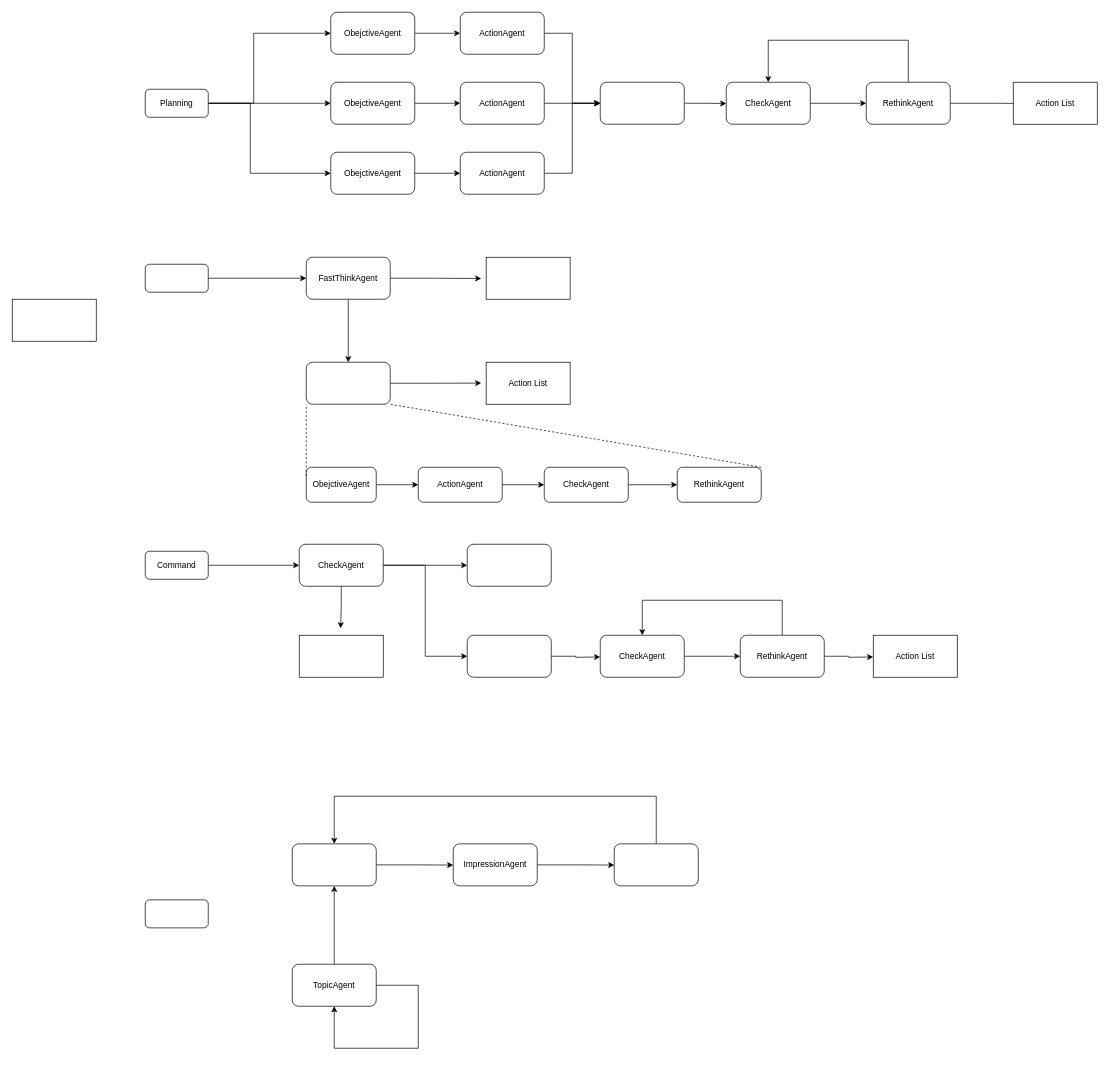
Some shapes in this 1110 by 1066 pixel diagram are drawn without their labels. Here are the shapes that lost their labels. From the top down, the box of each, then its label:
(600, 82, 684, 124): MergerAgent
(145, 264, 208, 292): Replan
(485, 257, 570, 299): Instant Action
(12, 299, 96, 341): Event
(306, 362, 390, 404): ReplanAgent
(467, 544, 551, 586): WriterAgent
(299, 635, 383, 677): Instant Response
(467, 635, 551, 677): PlanAgent
(292, 843, 376, 886): DialogAgent
(614, 843, 698, 886): IntimacyAgent
(145, 899, 208, 928): Chat
